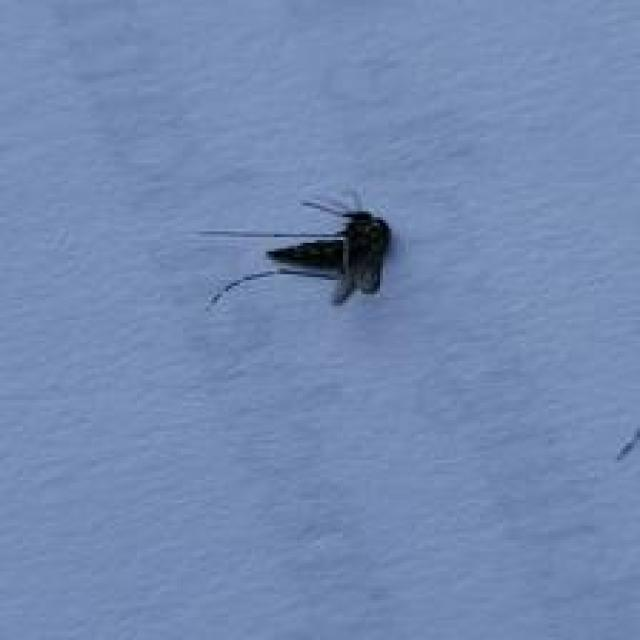Aedes albopictus: (197, 190, 394, 310)
